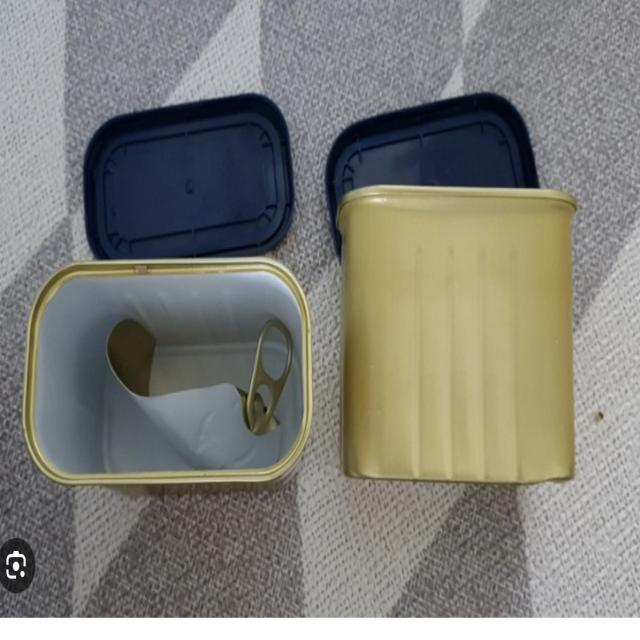recyclable: (336, 164, 584, 516), (17, 246, 326, 504), (80, 77, 300, 274)
